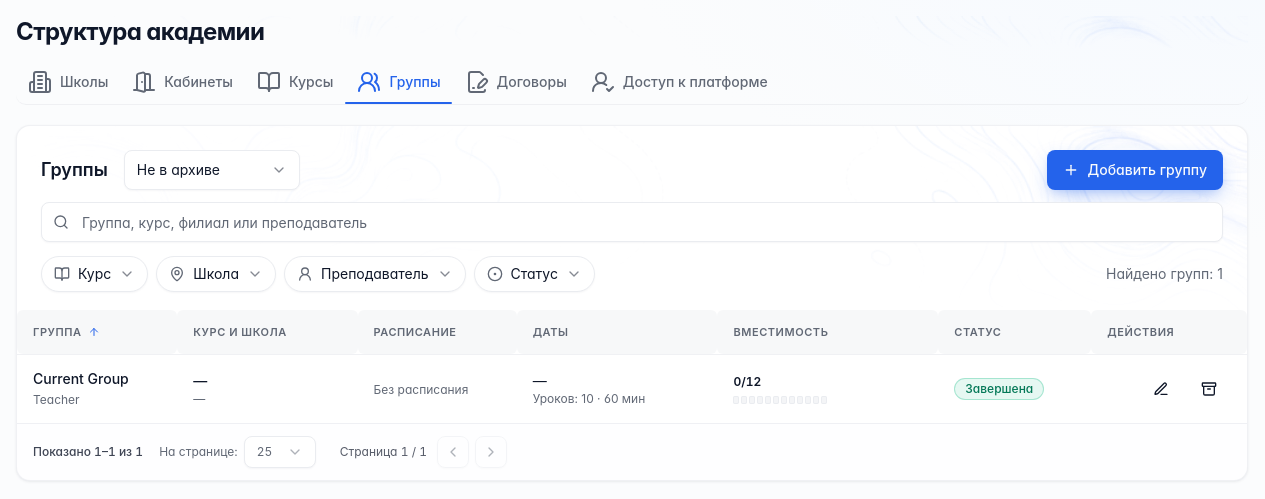
Test: navigates between current and archived groups with the dropdown
Expected: the text "Current Group" is shown, [33, 370, 129, 386]
Expected: the text "Past Group" is not shown
Click the dropdown named "Режим списка групп" at (212, 170), box [124, 150, 300, 190]
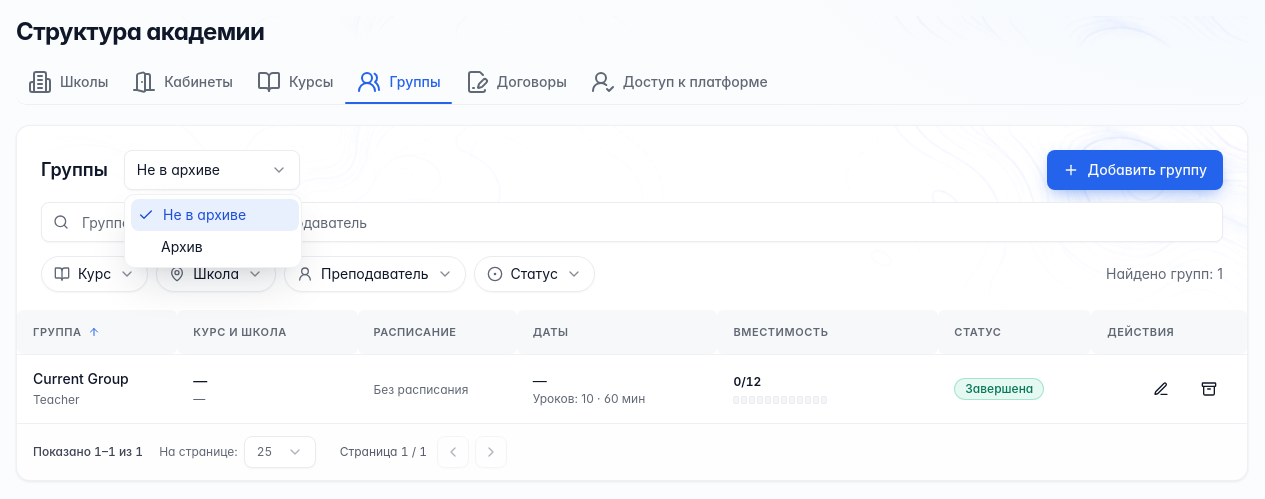
Click the option "Архив" at (182, 246), box [161, 238, 203, 255]
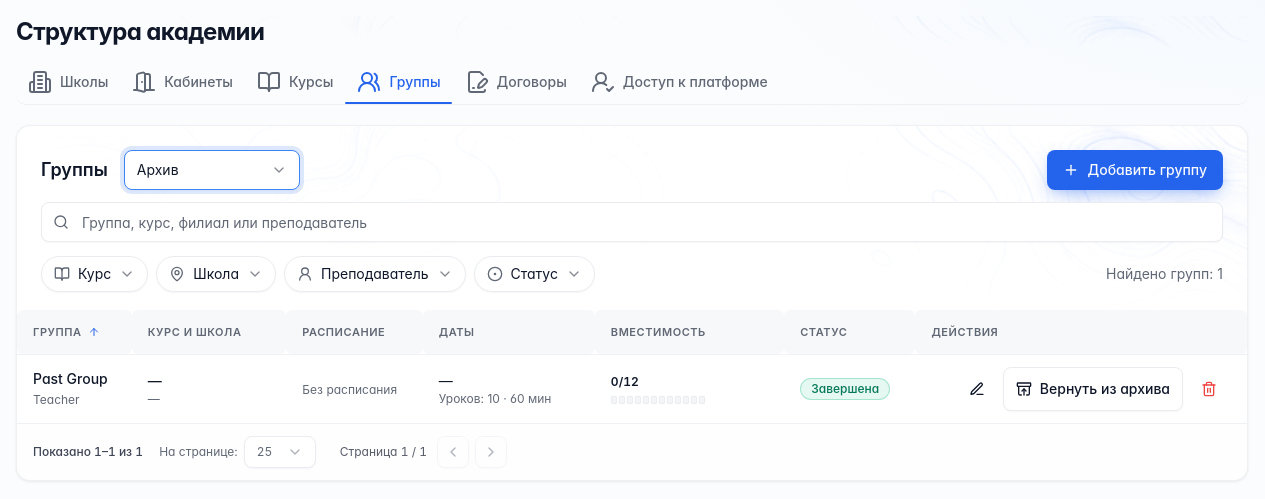
Expected: the text "Past Group" is shown, [33, 368, 116, 388]
Expected: the button "Current Group" is gone
Click the dropdown named "Режим списка групп" at (212, 170), box [124, 150, 300, 190]
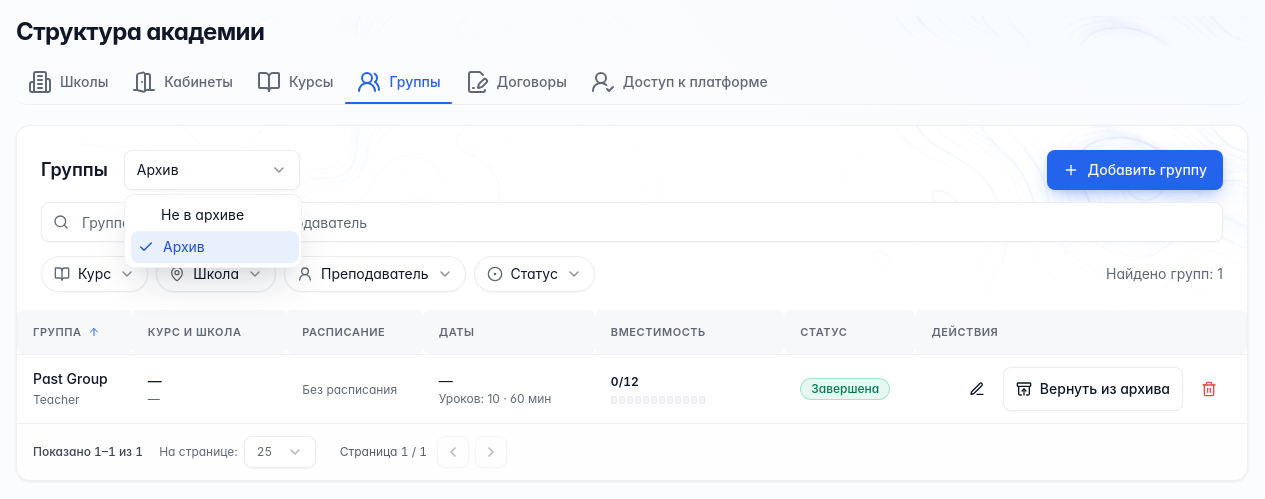
Click the option "Не в архиве" at (203, 214), box [161, 206, 244, 223]
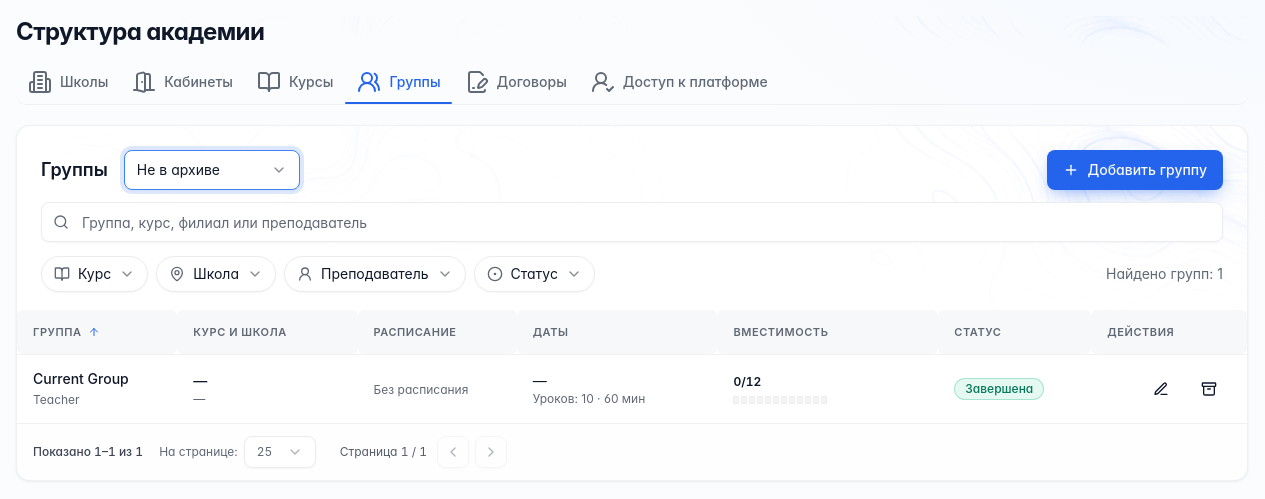
Expected: the text "Current Group" is shown, [33, 370, 129, 386]
